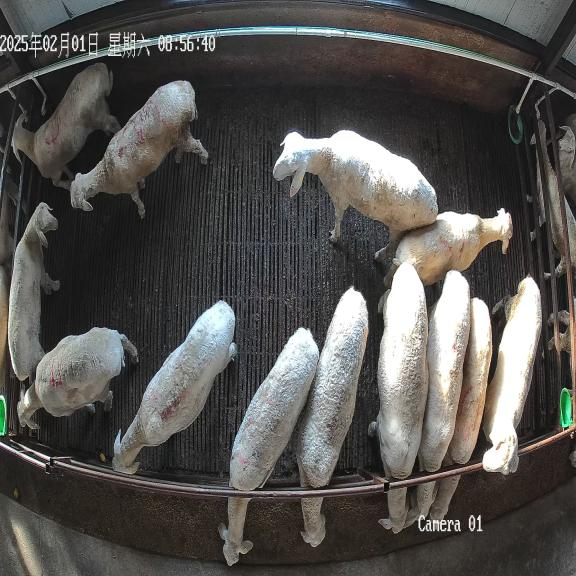eating: (219, 328, 319, 565), (296, 286, 368, 547), (405, 270, 470, 526), (368, 262, 428, 533), (428, 297, 492, 520)
stand: (112, 301, 236, 474), (273, 130, 438, 256), (70, 80, 208, 217), (12, 63, 121, 190), (482, 276, 542, 474), (18, 328, 137, 426), (384, 208, 512, 288), (8, 202, 60, 380)
